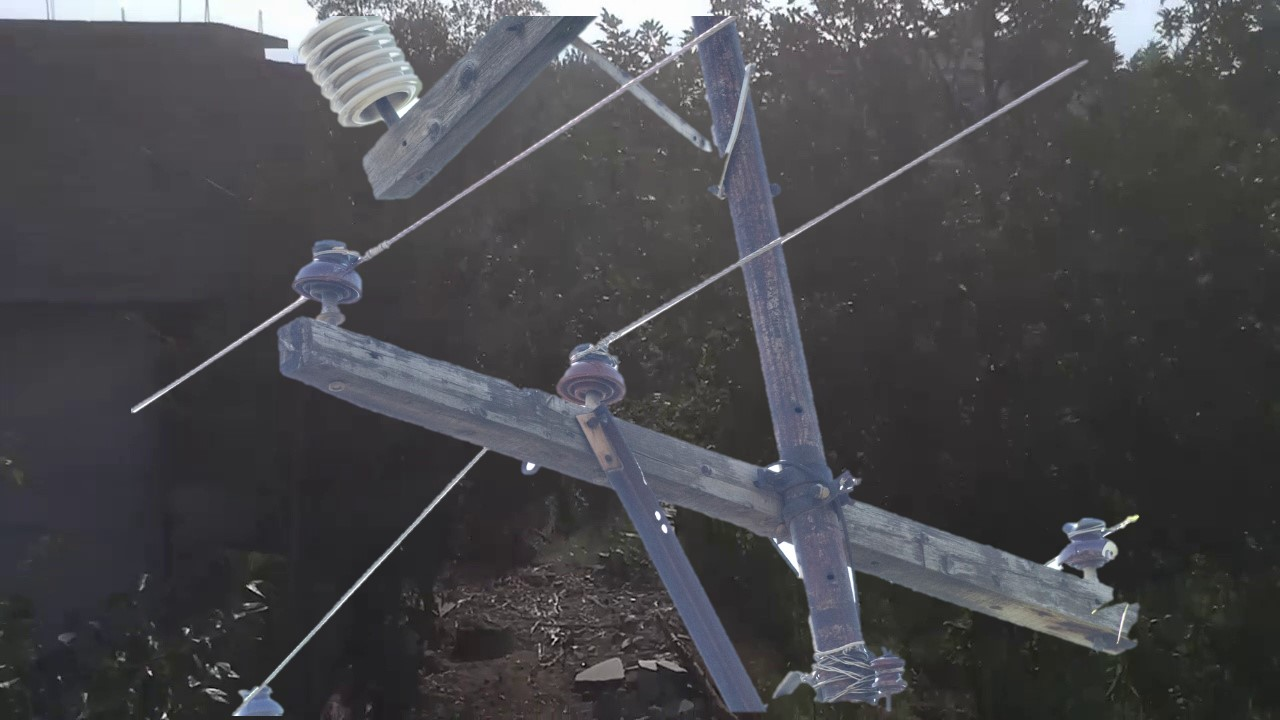defect_pin: (1055, 512, 1122, 578)
insulator_pin: (288, 236, 369, 315), (550, 339, 631, 411)
